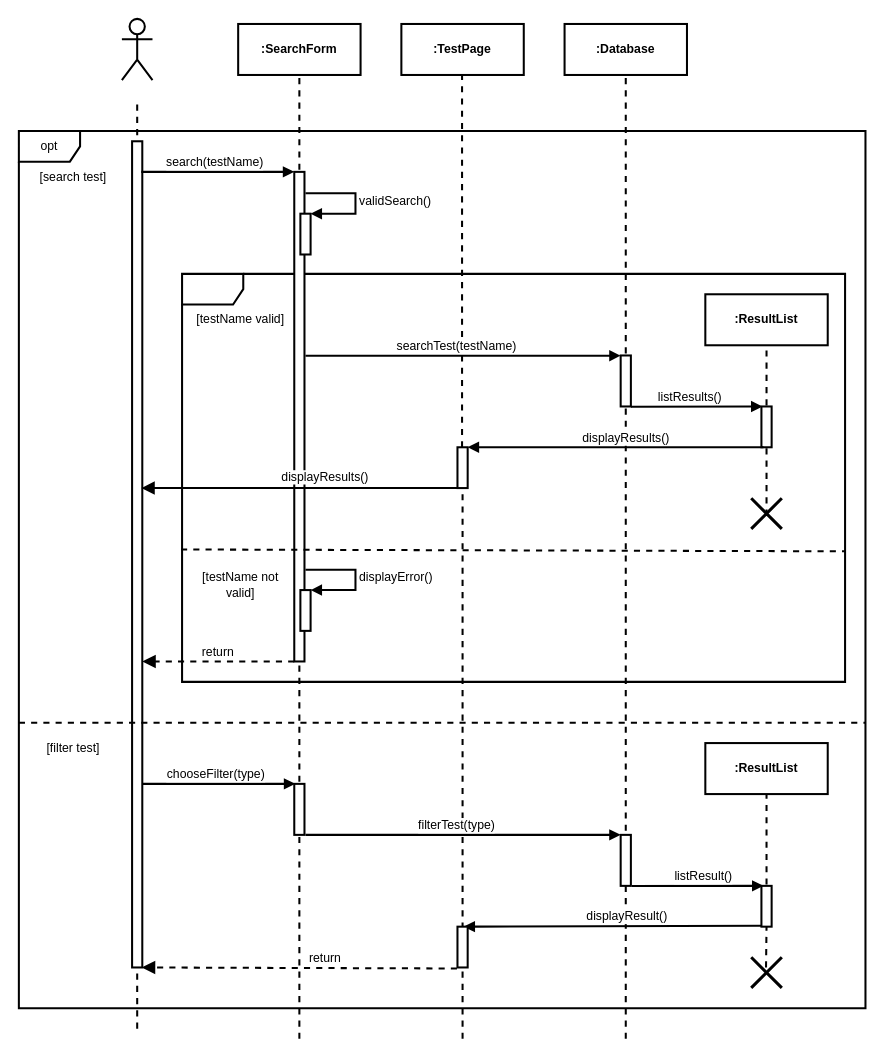
Some shapes in this 884 by 1058 pixel diagram are drawn without their labels. Here are the shapes that lost their labels. From the top down, the box of each, then its label:
(120, 17, 153, 81): :User
(181, 272, 846, 682): apt
